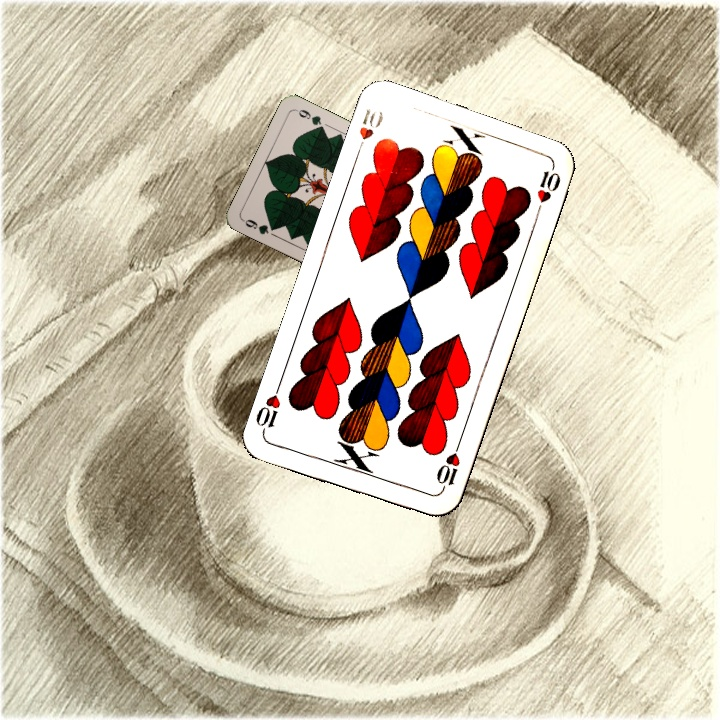G9: (239, 215, 280, 237)
H10: (352, 105, 386, 159), (432, 438, 464, 495)
